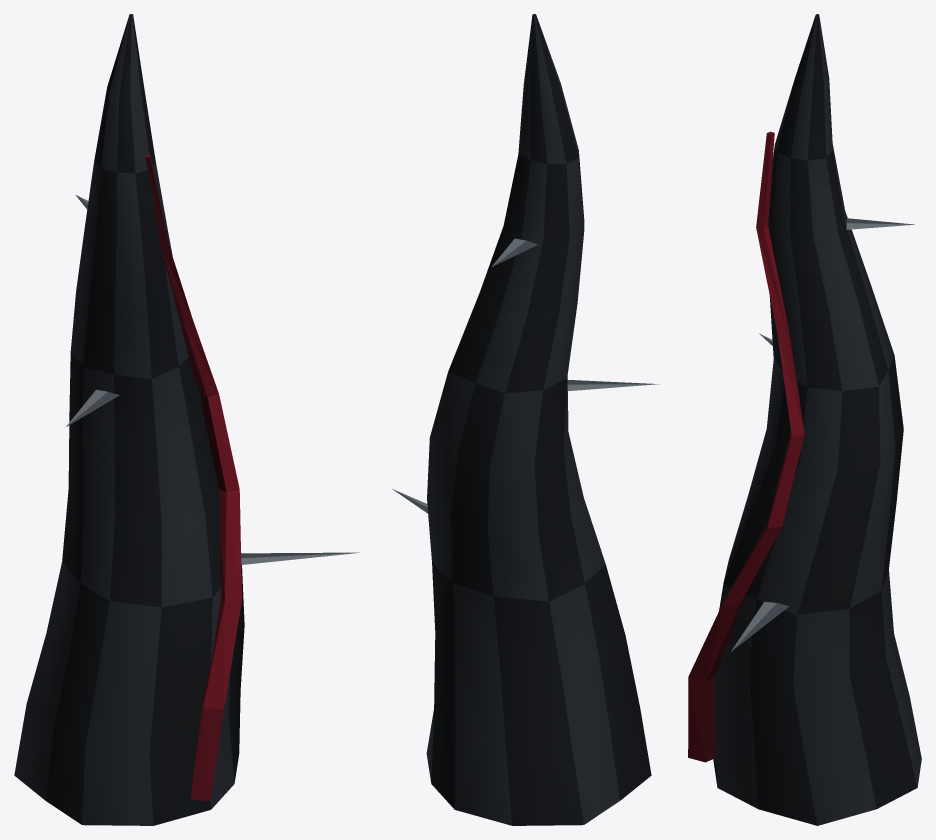
File: tendril_spike.obj
3 views of the same model, side by side, from view 1: azimuth 30°, elevation 25°; view 2: azimuth 150°, elevation 25°; view 3: azimuth 270°, elevation 25° (orthographic).
Parts seen in each view (by area): view 1: tendril_spike; view 2: tendril_spike; view 3: tendril_spike.
Part boxes in pixels (bbox=[...]): tendril_spike: bbox=[14, 14, 359, 825]; tendril_spike: bbox=[392, 14, 659, 825]; tendril_spike: bbox=[688, 14, 921, 825].
Size of the model in its own units: 0.1162 by 0.3 by 0.0837.
